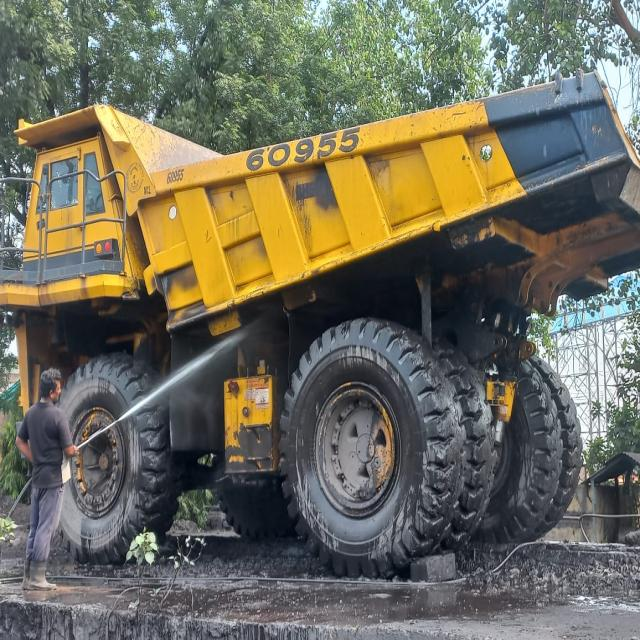dump_truck: (13, 73, 635, 574)
